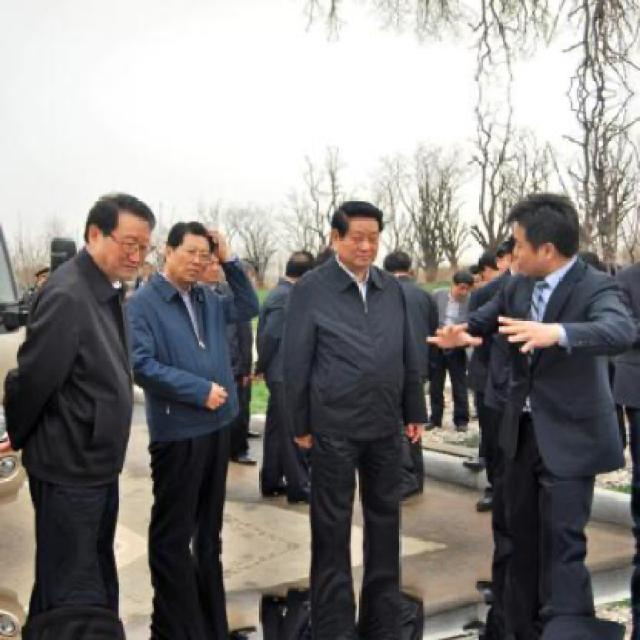sin casco: (72, 191, 180, 246), (512, 174, 570, 257), (332, 200, 381, 230), (273, 248, 313, 281), (166, 222, 214, 248)
